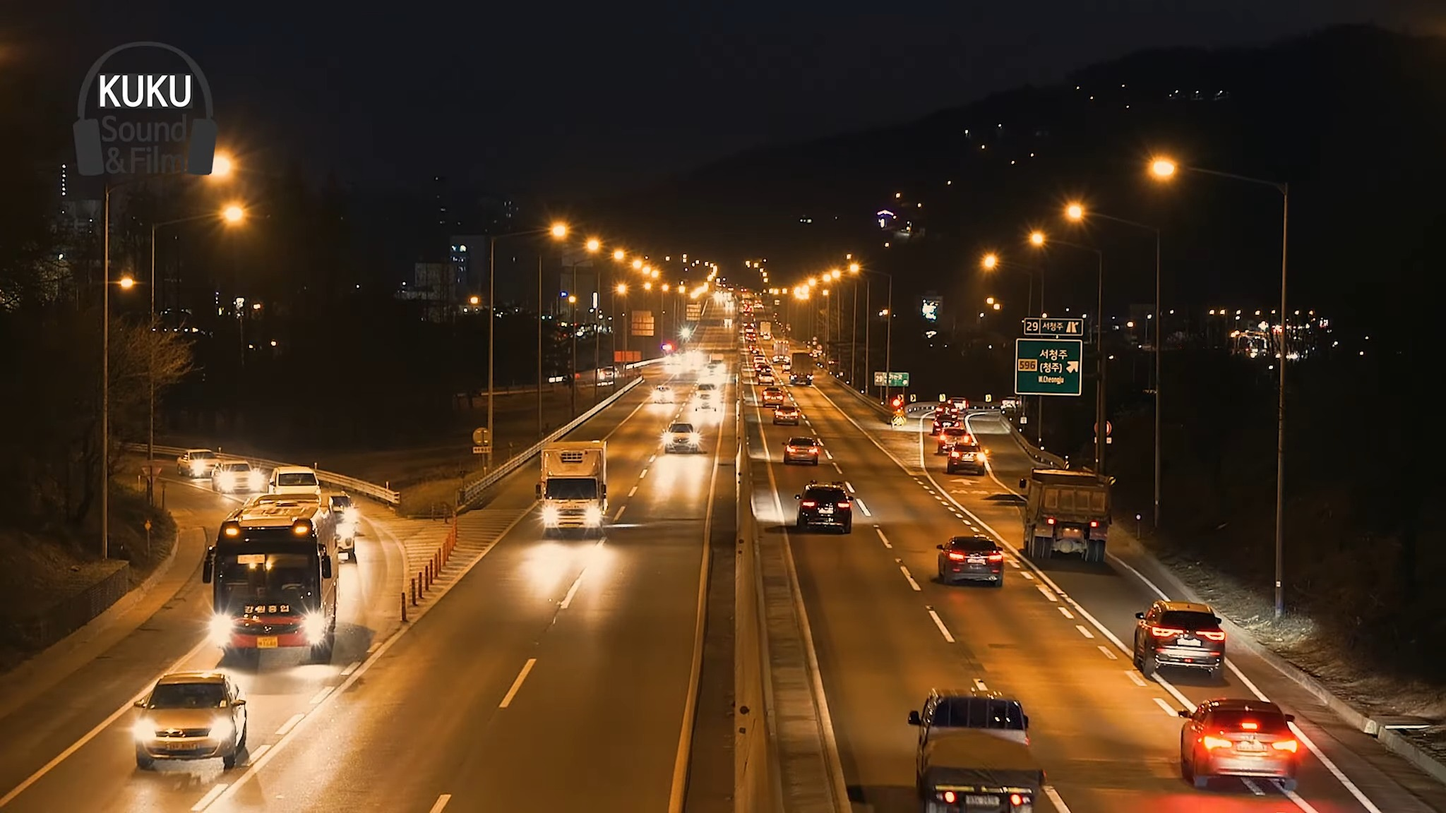car: (135, 669, 247, 779), (1179, 695, 1298, 789), (1132, 600, 1233, 687), (932, 533, 1008, 591), (788, 480, 862, 535)
truck: (205, 514, 342, 672), (915, 681, 1041, 813), (1021, 463, 1113, 569), (533, 427, 613, 543)
